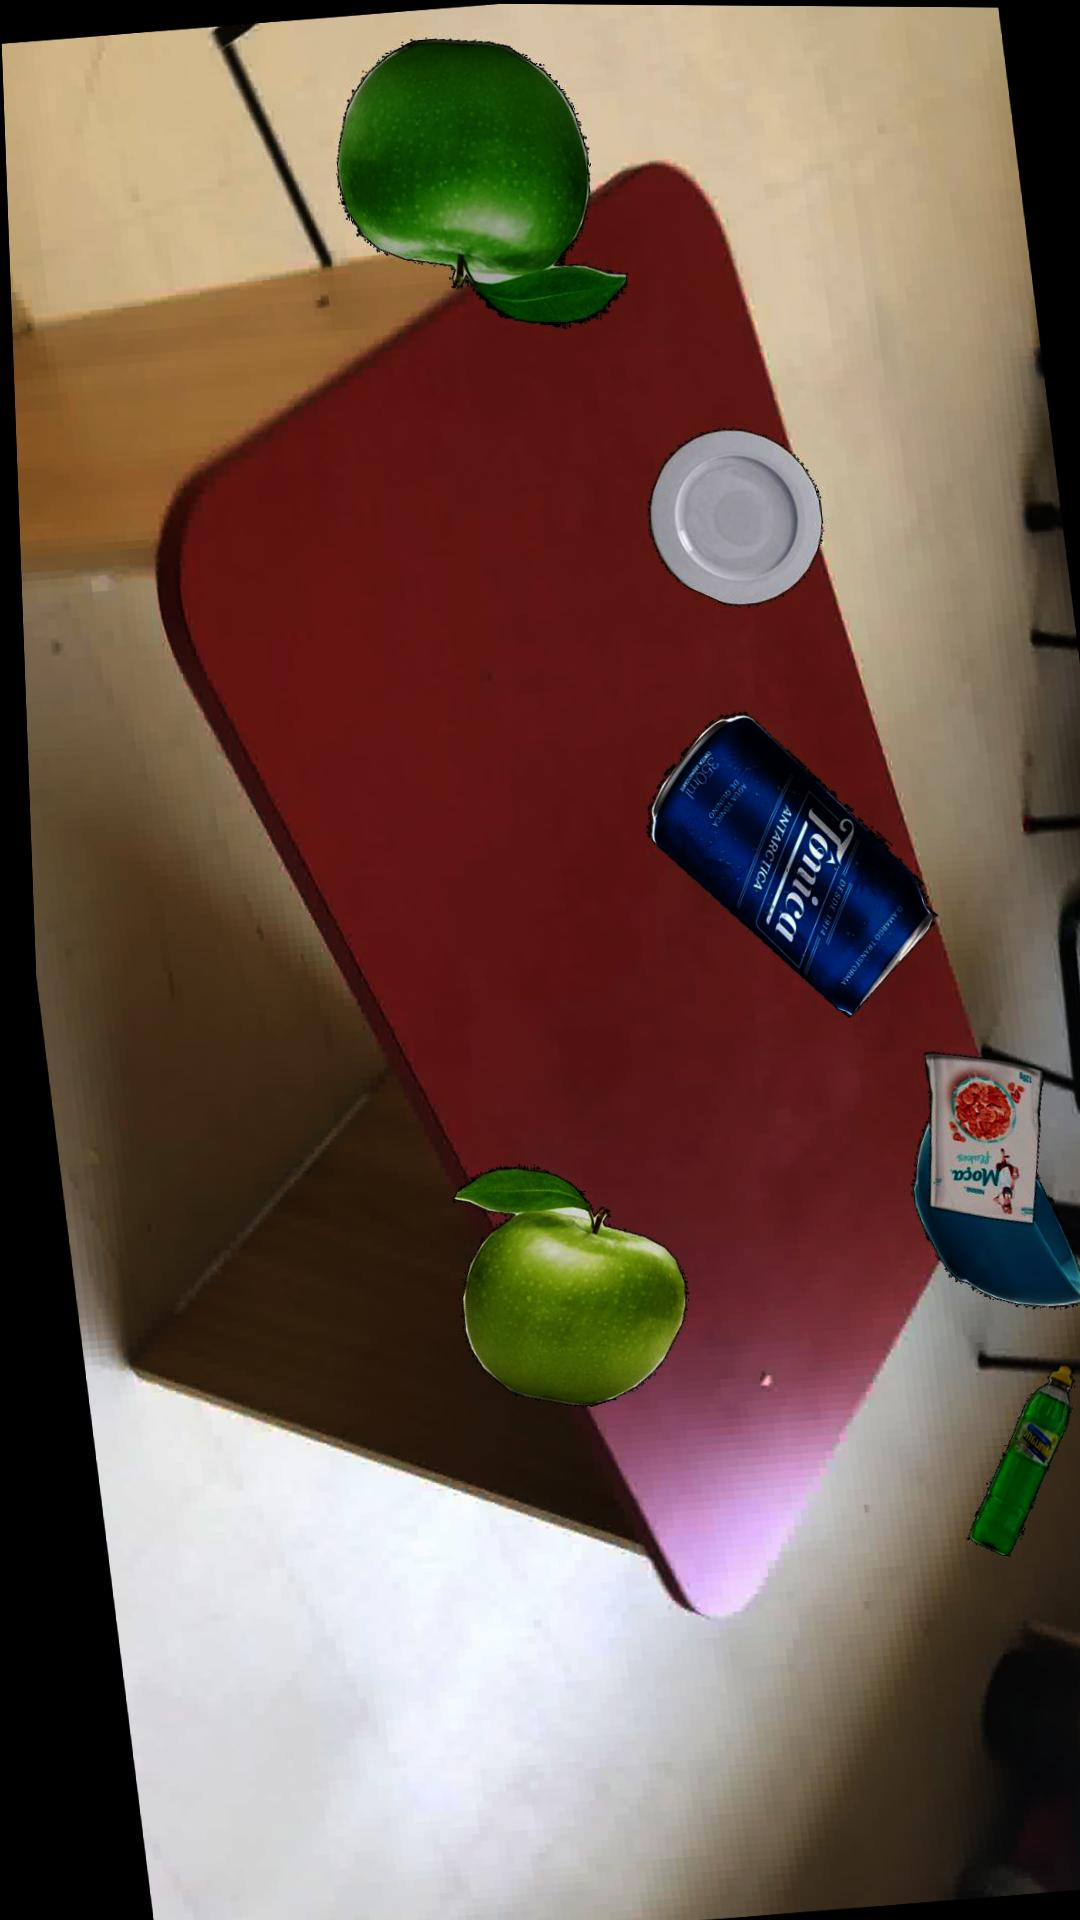bowl: (899, 1118, 1075, 1305)
cleaner: (955, 1362, 1063, 1553)
corn flakes: (914, 1050, 1033, 1221)
green apple: (334, 37, 624, 324), (442, 1163, 676, 1404)
plate: (642, 426, 816, 604)
tonic: (637, 709, 928, 1015)
